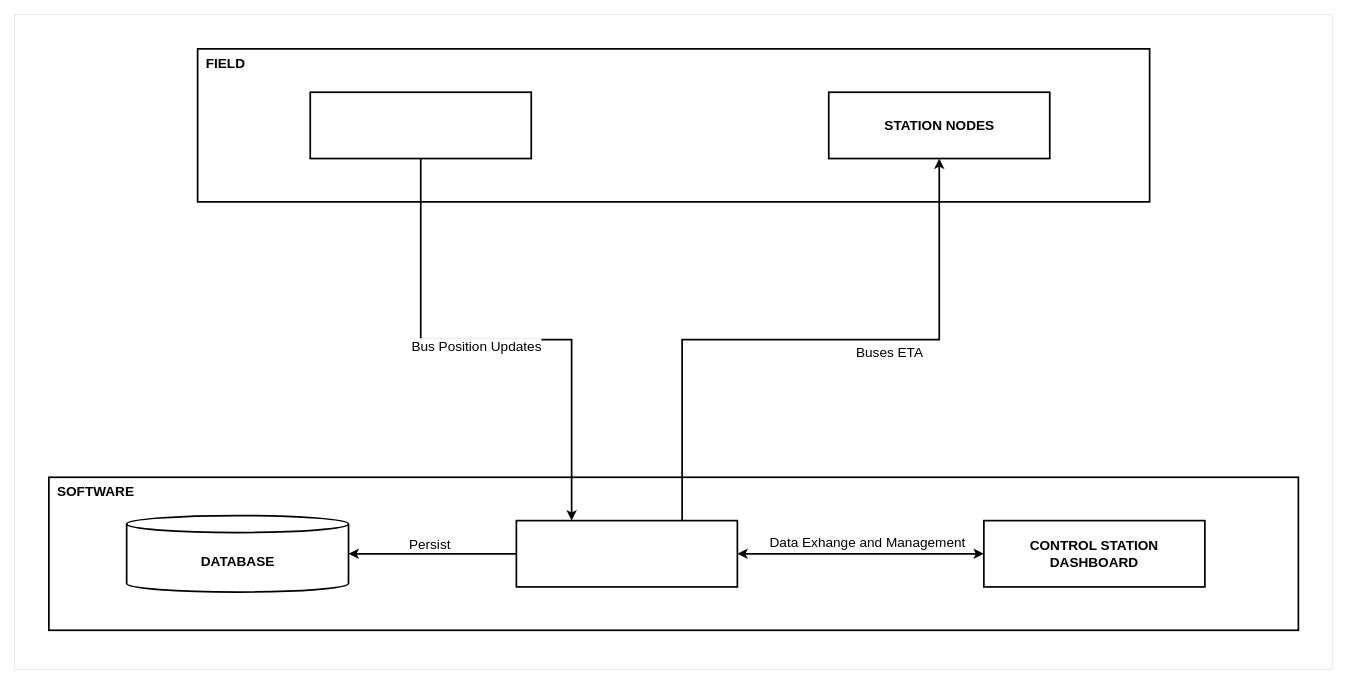
The diagram is 1346 pixels wide and 683 high, and some of its shapes have lost their labels. The shapes that lost their labels are listed below. From the top down, each one's centre as x and y in pixels, then its label:
At (420,125): "BUS NODES".
At (626,553): "API SERVER".
